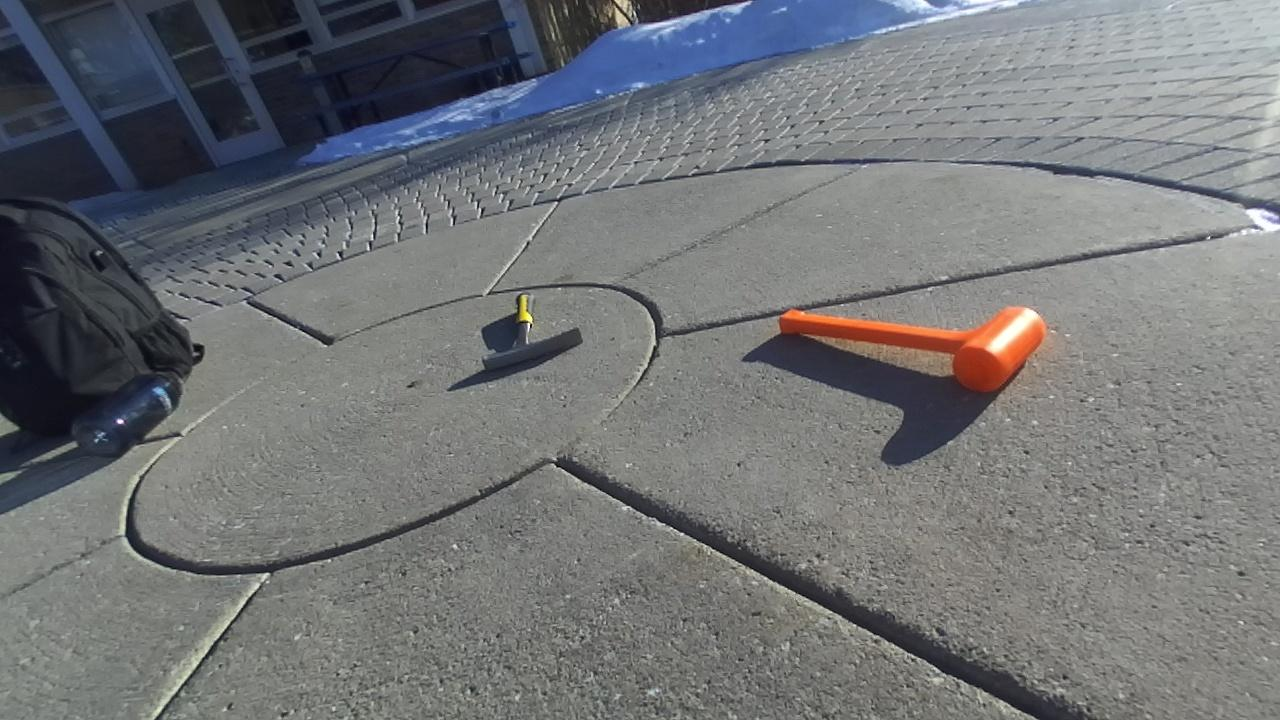bottle: (71, 374, 181, 456)
mallet: (779, 307, 1046, 391)
pick: (483, 293, 581, 370)
